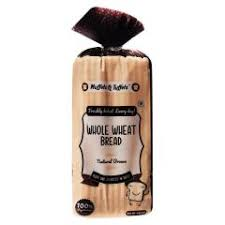bread: (70, 5, 159, 221)
